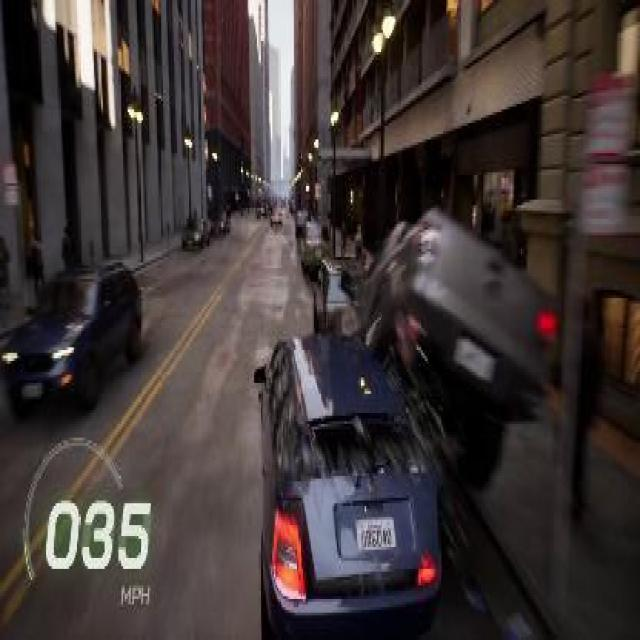accident: (245, 194, 566, 637)
